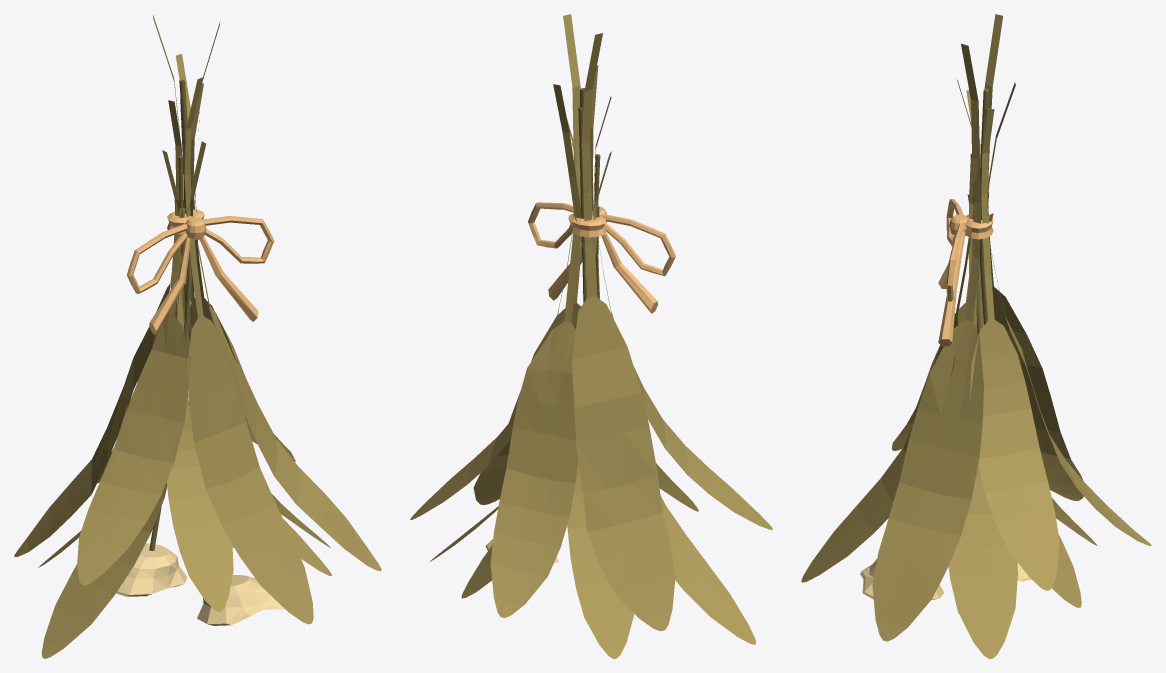
The model's file is SFHW_Dried_Herbs_005.fbx.
3 renders of one model, left to right at view 1: azimuth 30°, elevation 25°; view 2: azimuth 150°, elevation 25°; view 3: azimuth 270°, elevation 25°, orthographic.
Visible parts, largest first — view 1: SFHW_Dried_Herbs_005; view 2: SFHW_Dried_Herbs_005; view 3: SFHW_Dried_Herbs_005.
Part boxes in pixels (left/top/right/bottom): SFHW_Dried_Herbs_005: left=14, top=15, right=381, bottom=658; SFHW_Dried_Herbs_005: left=410, top=14, right=772, bottom=658; SFHW_Dried_Herbs_005: left=801, top=14, right=1151, bottom=658.
Size of the model in its own units: 19.5 by 36.16 by 19.69.
